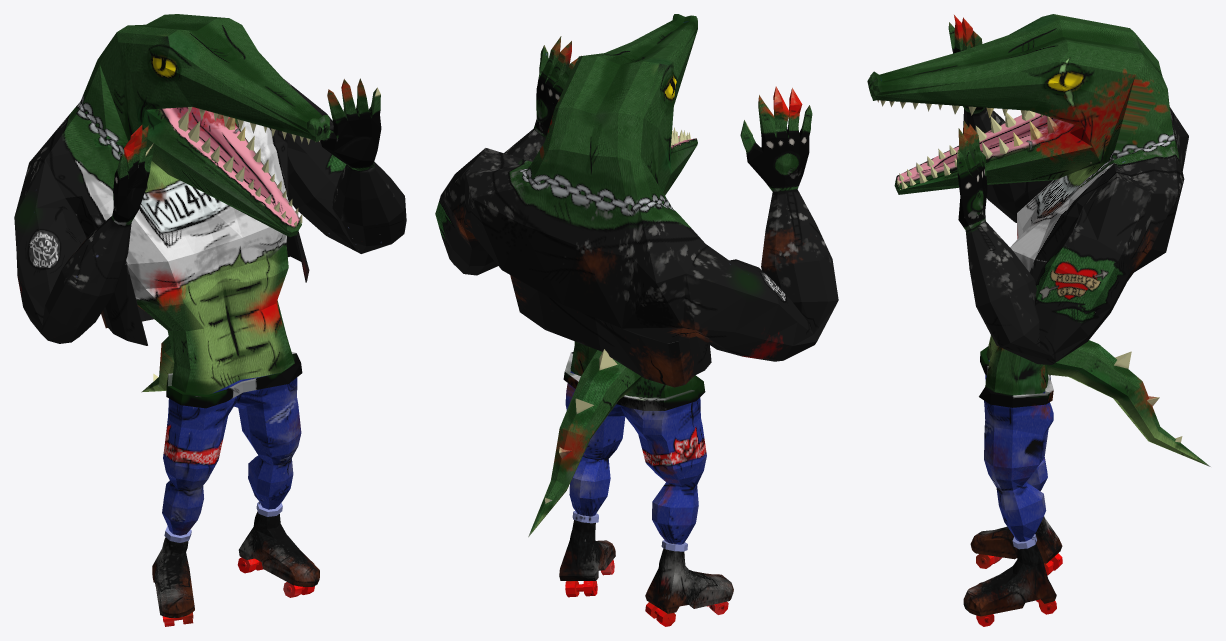
Rendered from cocodrilaBonesSelect_000021.obj.
The picture shows the model from 3 angles, left to right: view 1: azimuth 30°, elevation 25°; view 2: azimuth 150°, elevation 25°; view 3: azimuth 270°, elevation 25°; orthographic projection.
Visible parts, largest first — view 1: Crocodile.002_Cylinder.002; view 2: Crocodile.002_Cylinder.002; view 3: Crocodile.002_Cylinder.002.
Boxes of the visible parts, x1,y1,x2,y2 form: Crocodile.002_Cylinder.002: (14,14,406,626); Crocodile.002_Cylinder.002: (435,14,838,626); Crocodile.002_Cylinder.002: (867,14,1210,626).
Bounding box in the file's own units: 4.57 × 6.71 × 3.71.
